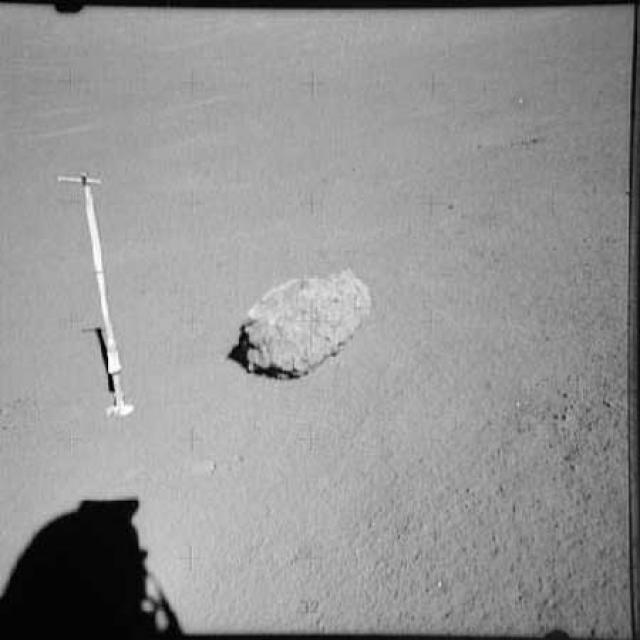artifact: (56, 161, 153, 421)
rock: (219, 256, 378, 383)
